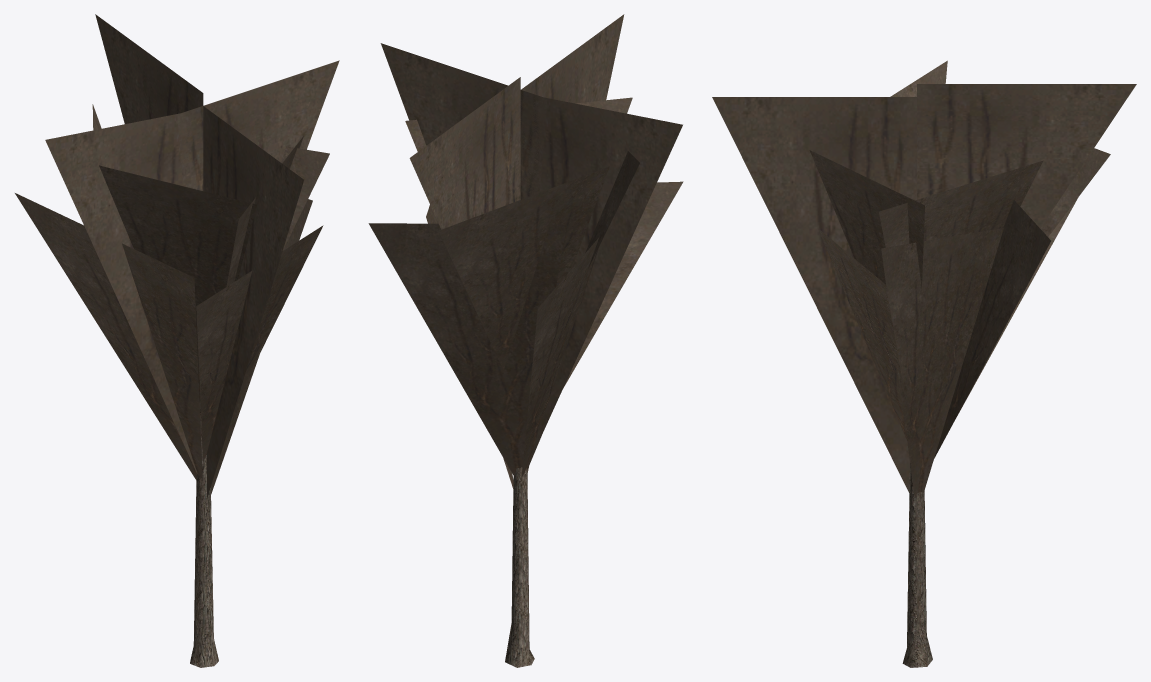
The model's file is tree2d.fbx.
3 views of the same model, side by side, from view 1: azimuth 30°, elevation 25°; view 2: azimuth 150°, elevation 25°; view 3: azimuth 270°, elevation 25° (orthographic). The views are drawn at different scales.
Parts seen in each view (by area): view 1: mesh_7, mesh_2, mesh_3, mesh_10, mesh_1, mesh_6, mesh_4, mesh_0, mesh_12, mesh_5, mesh_11; view 2: mesh_8, mesh_2, mesh_9, mesh_4, mesh_1, mesh_7, mesh_3, mesh_0, mesh_6, mesh_10, mesh_11; view 3: mesh_3, mesh_4, mesh_5, mesh_8, mesh_12, mesh_11, mesh_6, mesh_0, mesh_9, mesh_10.
Part boxes in pixels (box(x1,y1,x2,y2)): mesh_7: box(15, 193, 202, 480); mesh_2: box(45, 113, 197, 473); mesh_3: box(203, 106, 303, 498); mesh_10: box(99, 165, 256, 401); mesh_1: box(177, 60, 339, 190); mesh_6: box(196, 225, 323, 461); mesh_4: box(95, 14, 203, 123); mesh_0: box(190, 401, 218, 667); mesh_12: box(281, 146, 329, 250); mesh_5: box(211, 199, 312, 494); mesh_11: box(226, 136, 303, 286); mesh_8: box(368, 223, 566, 476); mesh_2: box(520, 93, 682, 467); mesh_9: box(438, 166, 609, 369); mesh_4: box(409, 77, 520, 229); mesh_1: box(380, 43, 547, 199); mesh_7: box(521, 238, 599, 479); mesh_3: box(521, 14, 624, 472); mesh_0: box(505, 467, 534, 667); mesh_6: box(563, 181, 683, 387); mesh_10: box(585, 151, 639, 268); mesh_11: box(405, 97, 632, 151); mesh_3: box(712, 97, 916, 492); mesh_4: box(917, 84, 1136, 228); mesh_5: box(881, 228, 1003, 497); mesh_8: box(933, 200, 1050, 460); mesh_12: box(879, 160, 1043, 247); mesh_11: box(809, 150, 924, 288); mesh_6: box(817, 228, 906, 439); mesh_0: box(902, 463, 932, 667); mesh_9: box(1040, 148, 1110, 236); mesh_10: box(890, 60, 947, 96).
Bounding box in the file's own units: 590 × 1088 × 725.
2 materials, 2 textured.
